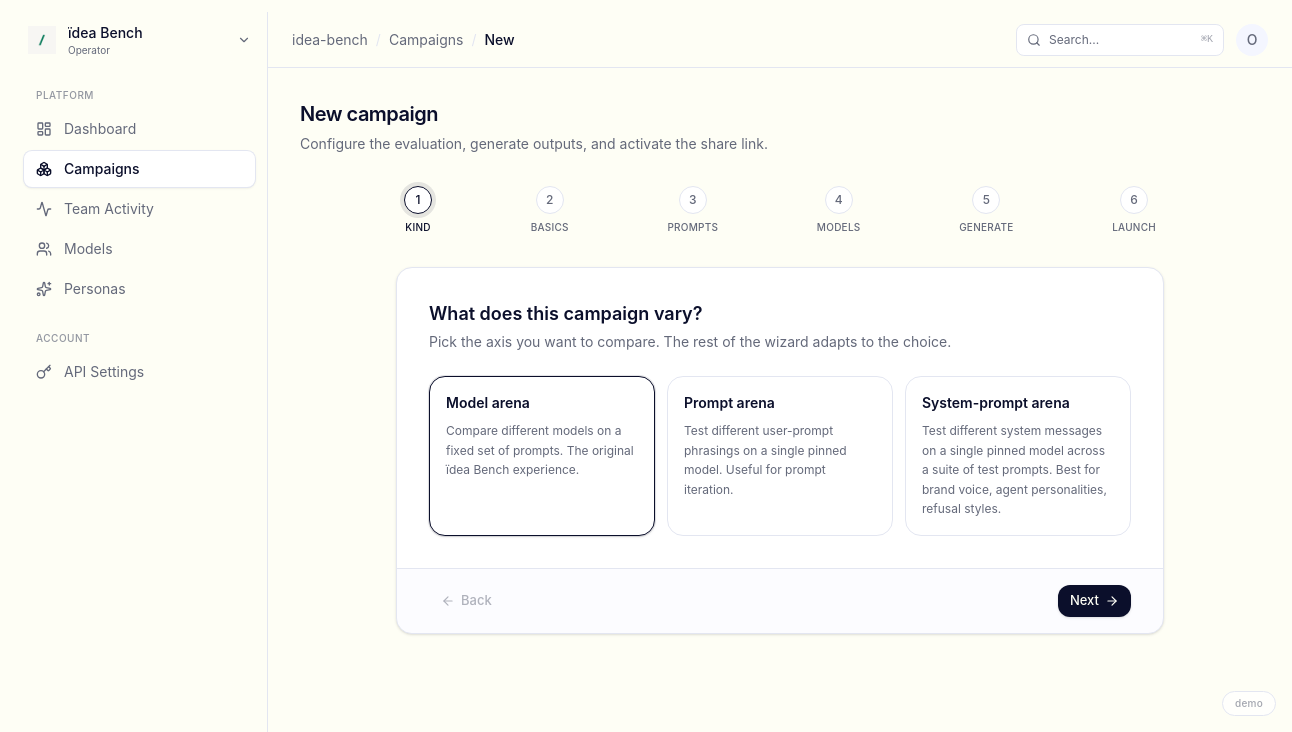
Test case: CreateCampaign › Step 0 — kind picker › selects prompt-arena and advances past Step 0
Click the radio button labelled "Prompt arena".
click(780, 456)  # box [667,376,893,536]
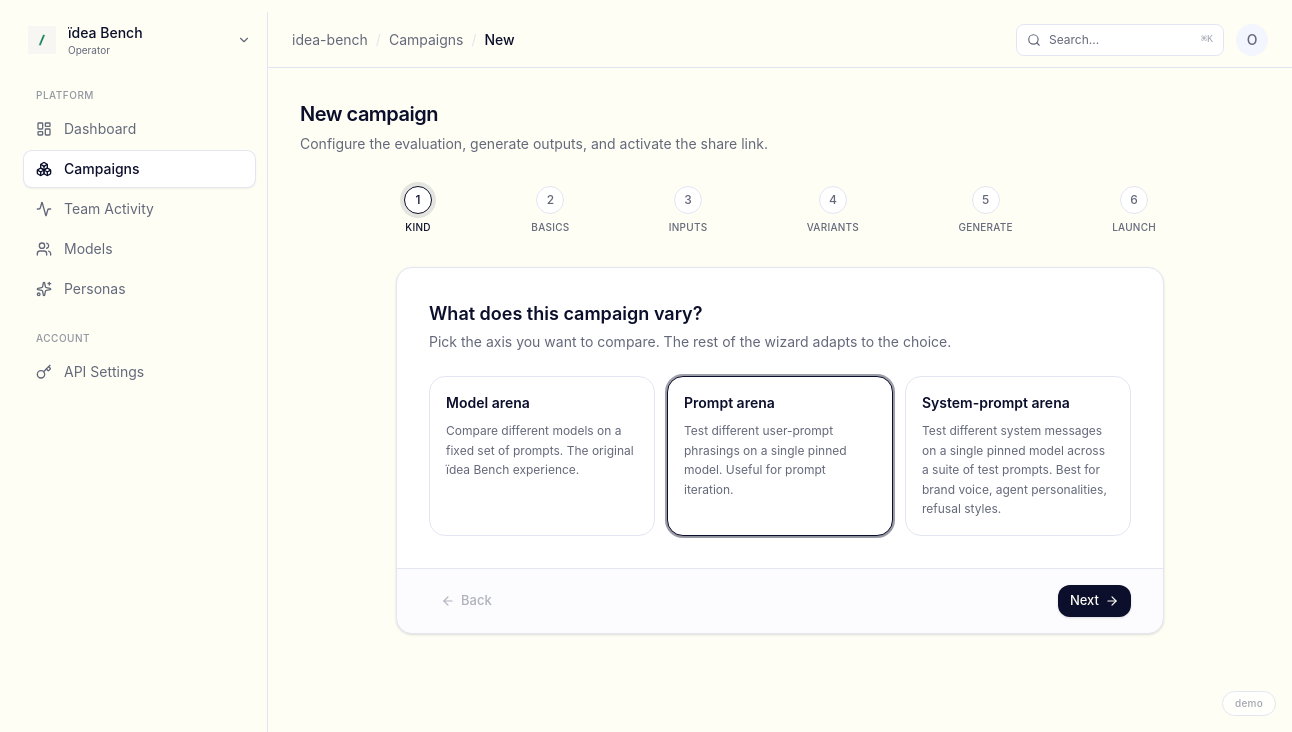
expect the radio button labelled "Prompt arena" is checked: met, box [667,376,893,536]
Click the button "Next".
click(1094, 600)  # box [1058,584,1131,616]
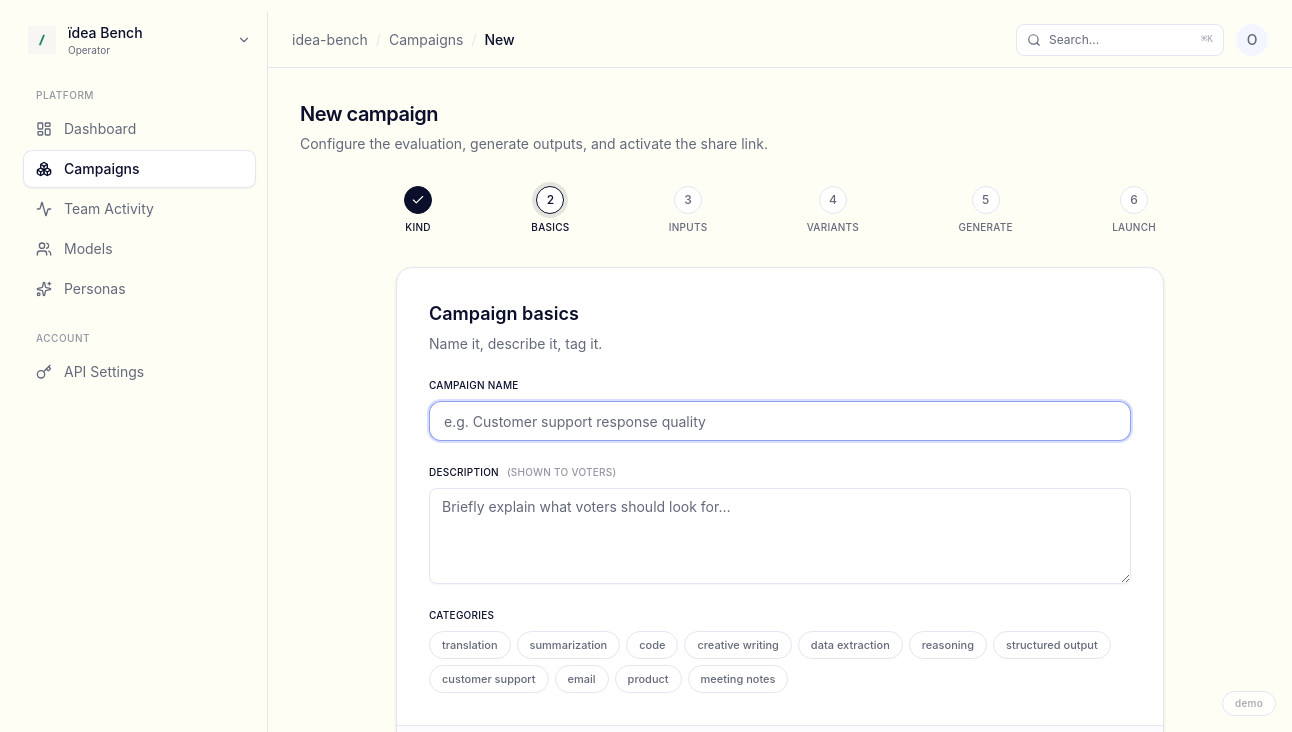
expect the field labelled "Campaign name" is shown: met, box [429,401,1131,441]
